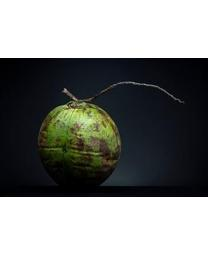coconut: (38, 89, 121, 192)
